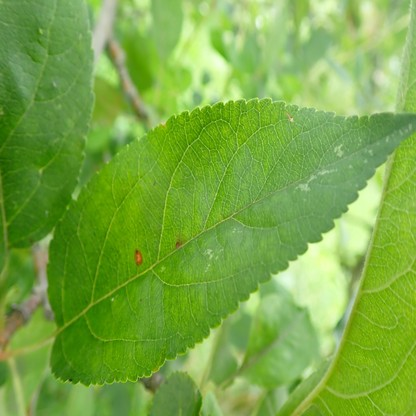frogeye_leaf_spot: (134, 249, 142, 266), (175, 241, 181, 249)
